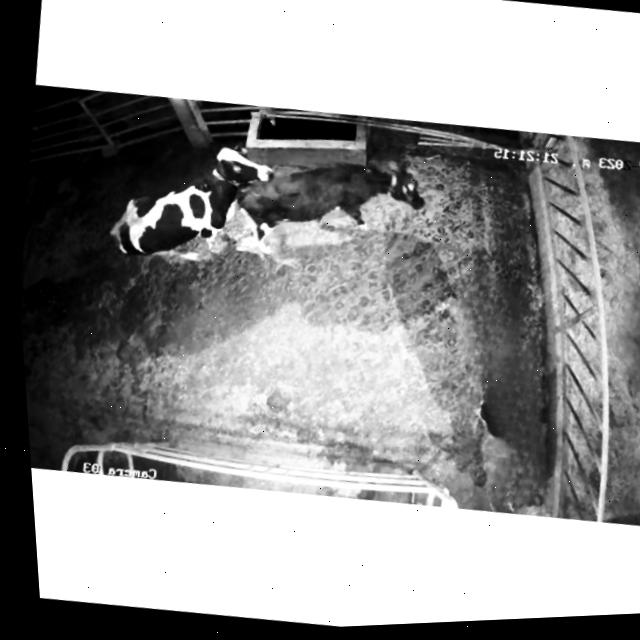propping: (182, 125, 302, 230)
